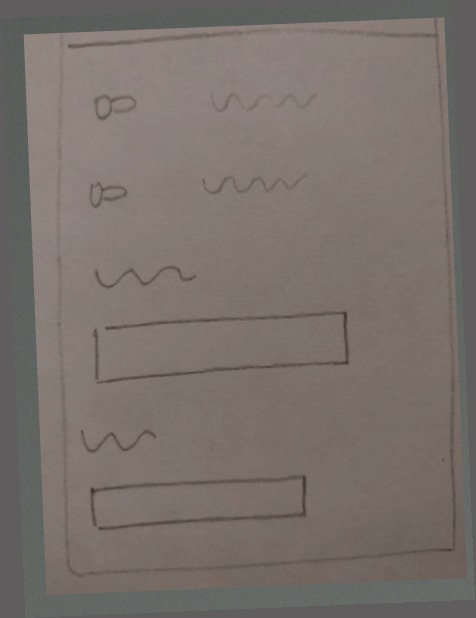switch: (82, 169, 137, 214), (86, 82, 141, 126)
text: (85, 245, 206, 297), (200, 77, 320, 128), (196, 158, 316, 209), (67, 411, 165, 462)
text_input: (83, 303, 359, 392), (83, 469, 312, 533)
